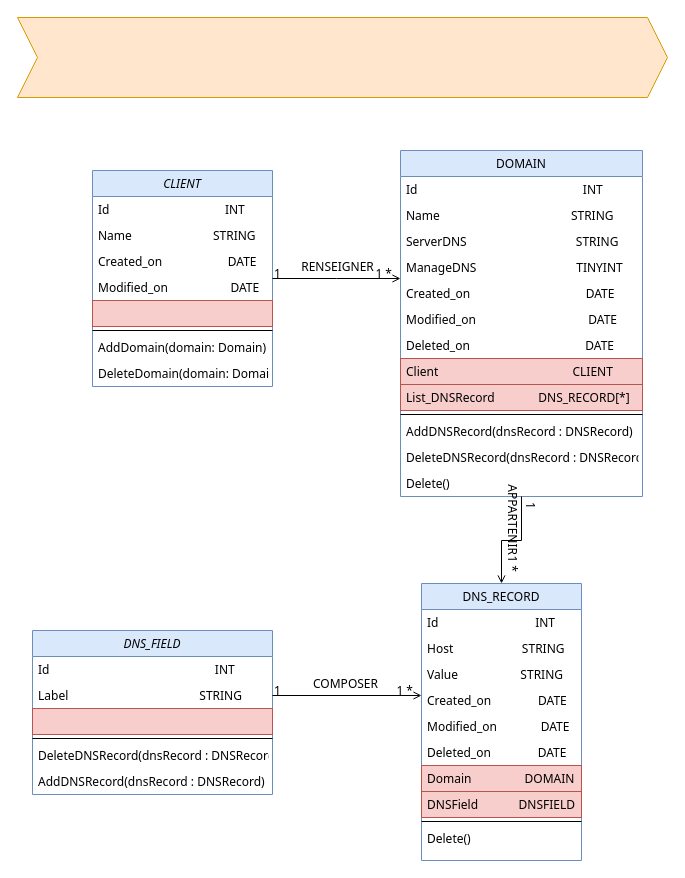
Some shapes in this 685 by 878 pixel diagram are drawn without their labels. Each missing label, with the centre of its shape:
"Diagramme de Classe" goes at pixel 342 57.
"List_DNSRecord DNSRecord[*]" goes at pixel 152 721.
"List_Domain DOMAIN[*]" goes at pixel 182 313.
